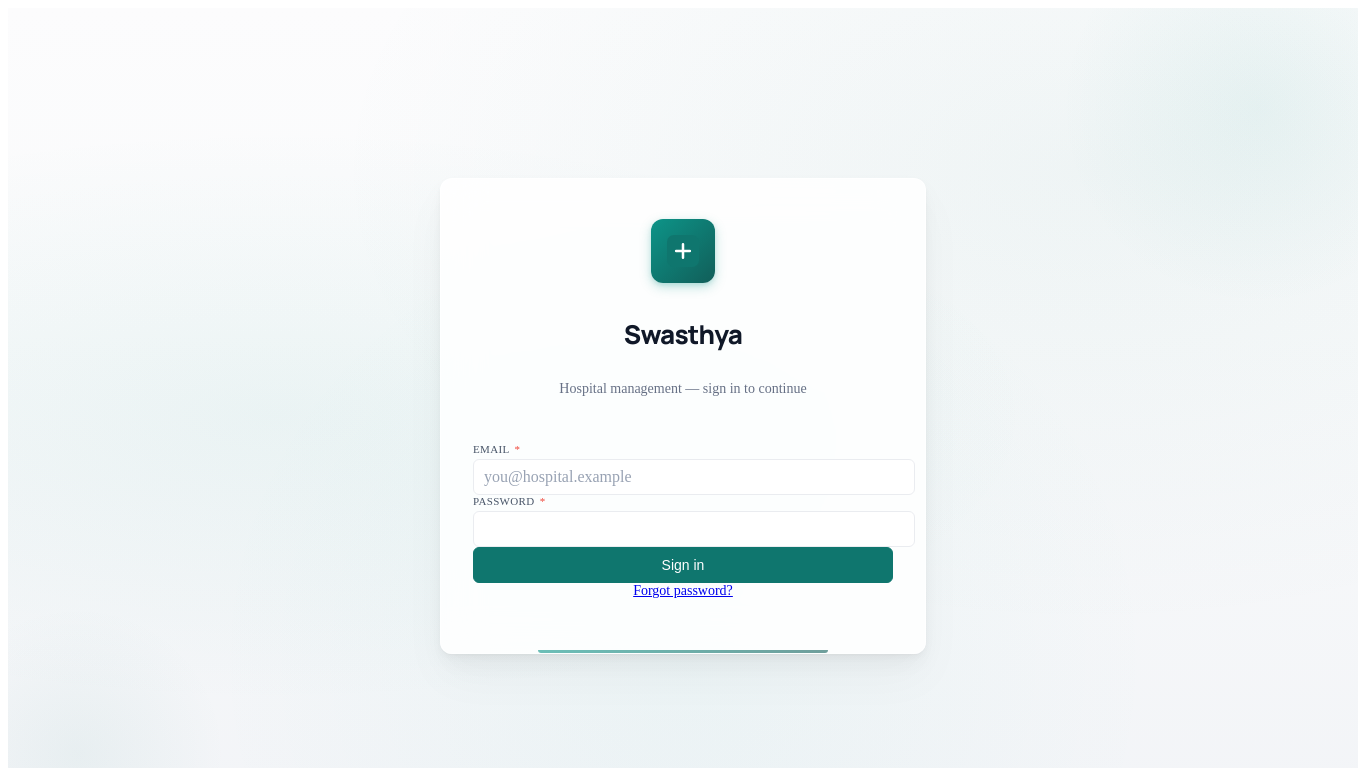
Test case: LoginPage › shows a rate-limit specific message on 429
In the field labelled "Email *": (694, 477) [473,459,915,495], type "a@b.test"
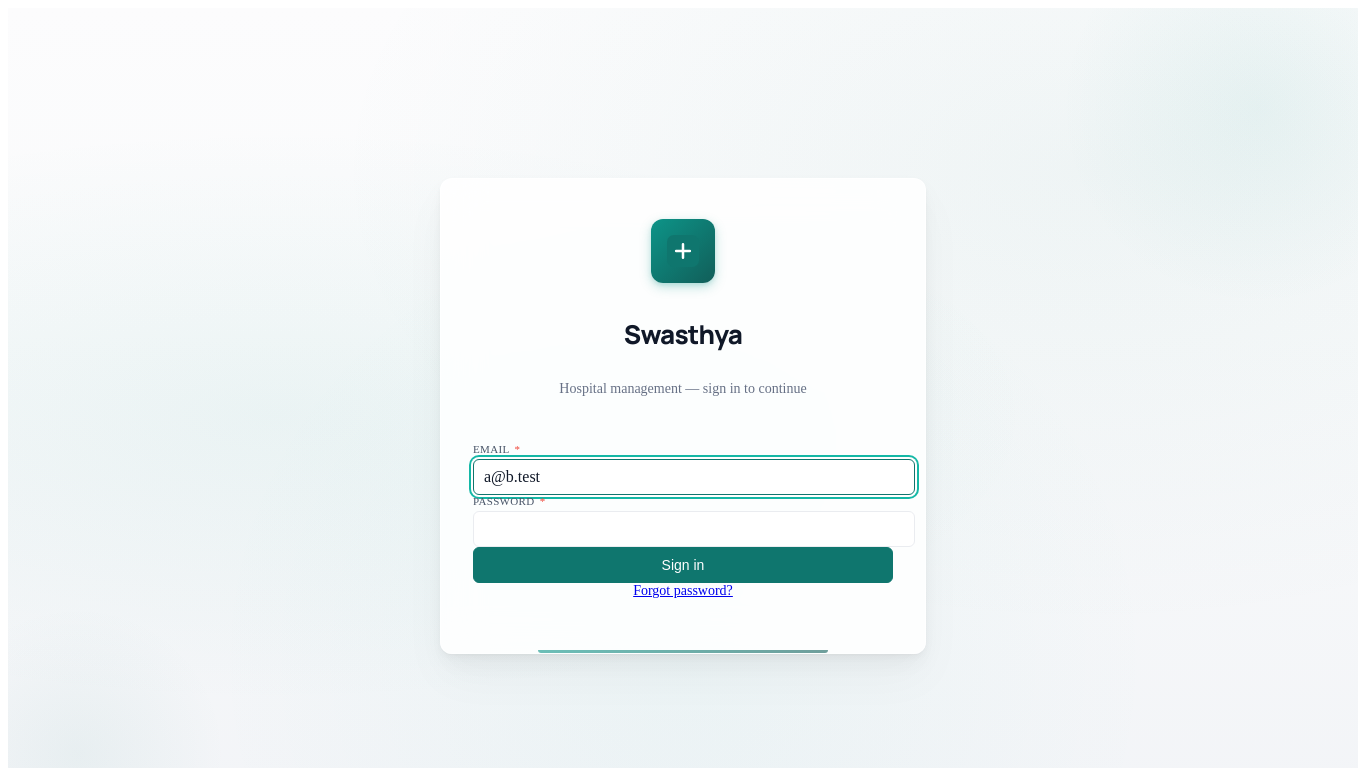
In the password field labelled "Password *": (694, 529) [473,511,915,547], type "wrong"
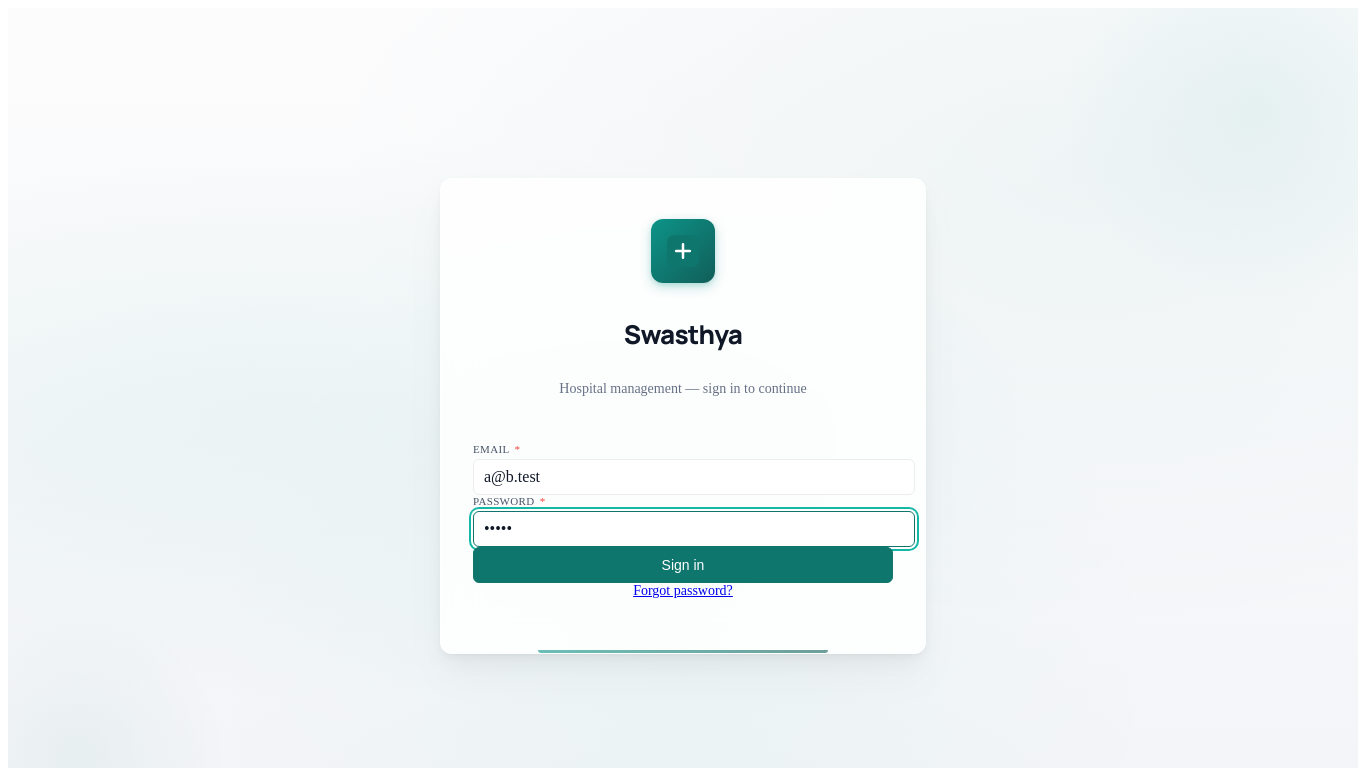
Click the button "Sign in": (683, 565) [473,547,893,583]
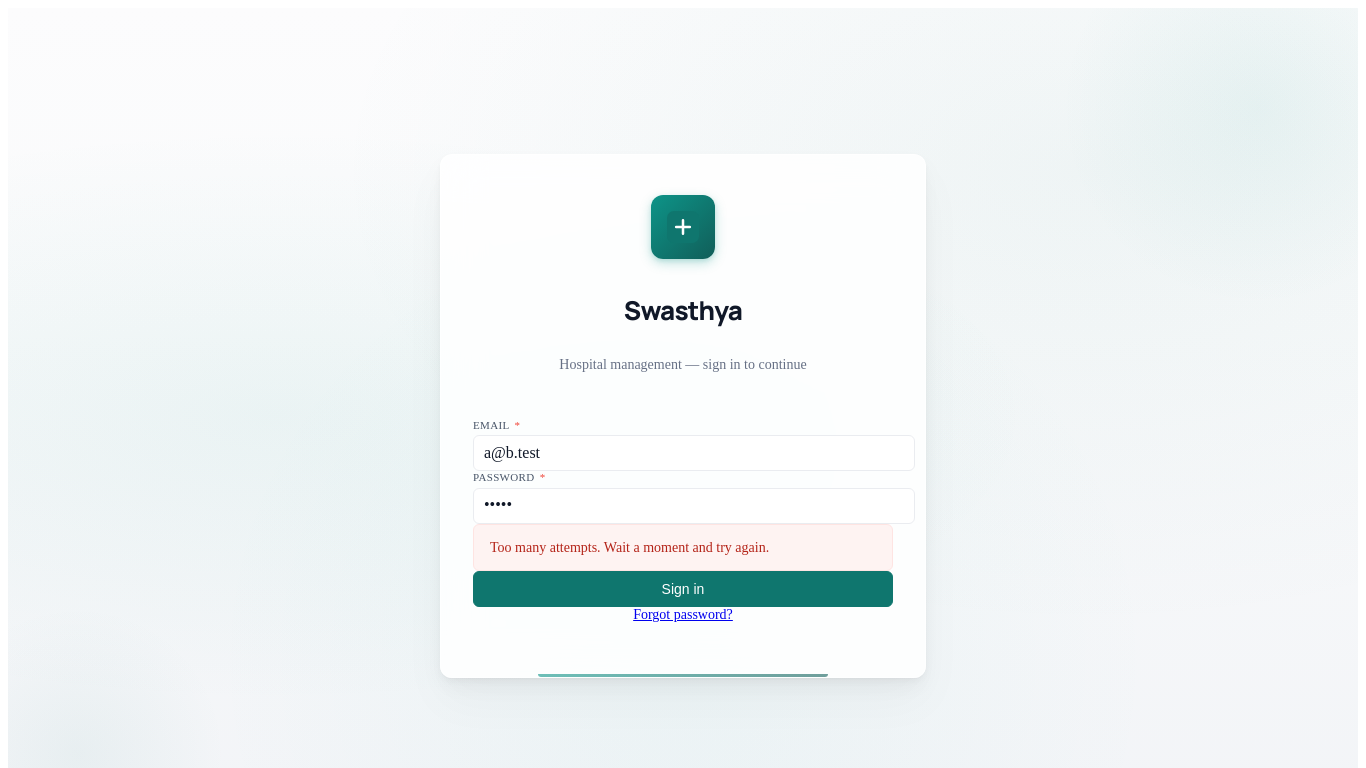
Expected: the message shows "Too many attempts", [490,540,769,555]
